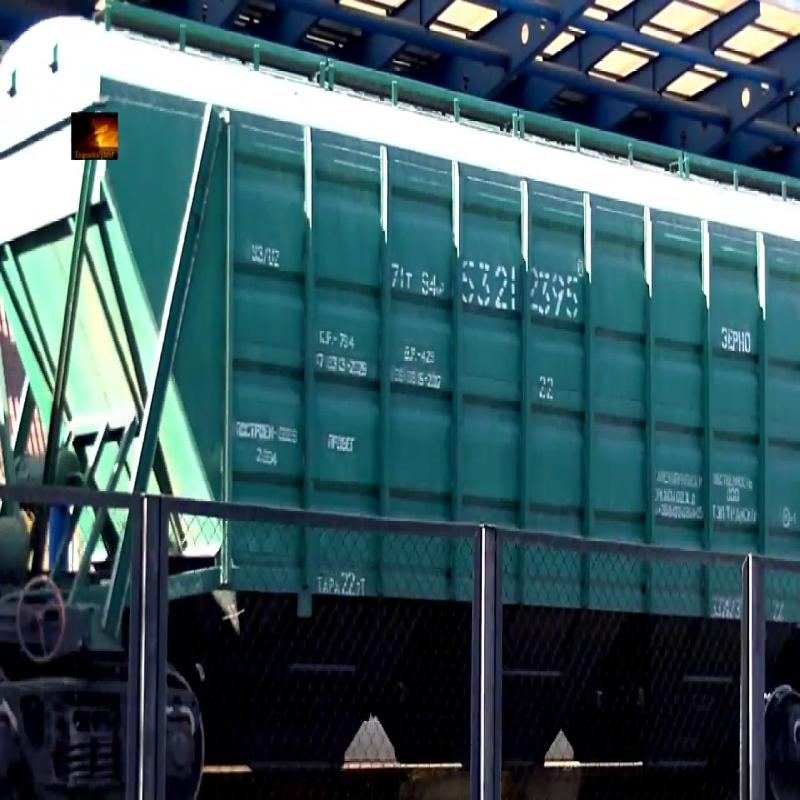train: (10, 6, 800, 725)
